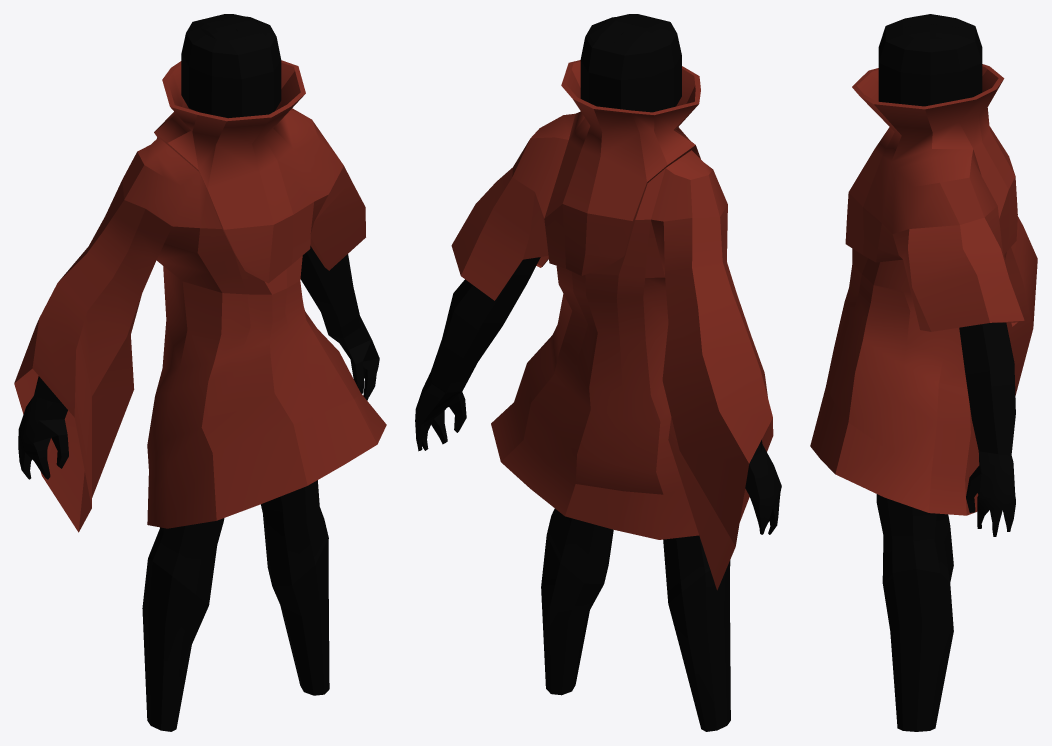
The model's file is Archer.fbx.
The picture shows the model from 3 angles, left to right: view 1: azimuth 30°, elevation 25°; view 2: azimuth 150°, elevation 25°; view 3: azimuth 270°, elevation 25°; orthographic projection. The views are drawn at different scales.
Visible parts, largest first — view 1: polySurface12, polySurface10; view 2: polySurface12, polySurface10; view 3: polySurface12, polySurface10.
Part boxes in pixels (x1,y1,x2,y2): polySurface12: [14, 60, 386, 532]; polySurface10: [18, 14, 379, 731]; polySurface12: [451, 60, 773, 590]; polySurface10: [415, 14, 781, 731]; polySurface12: [810, 64, 1037, 515]; polySurface10: [876, 14, 1015, 731].
Bounding box in the file's own units: 98.36 × 180 × 55.49.
